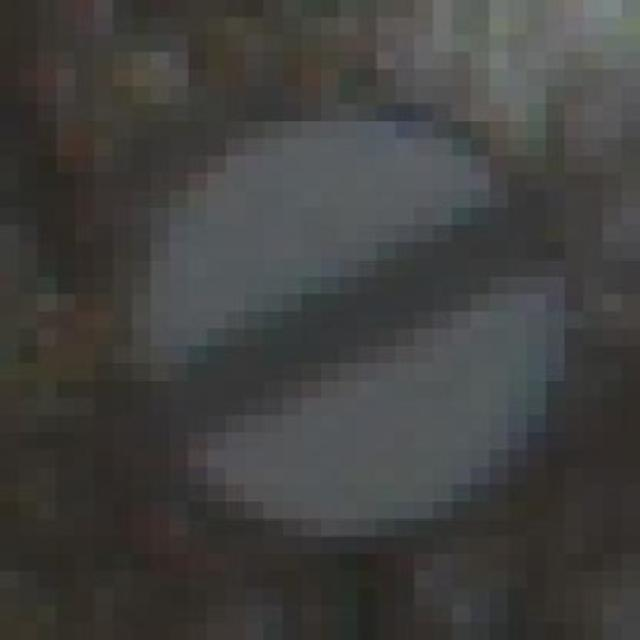End of all speed and passing limits: (94, 69, 583, 554)
